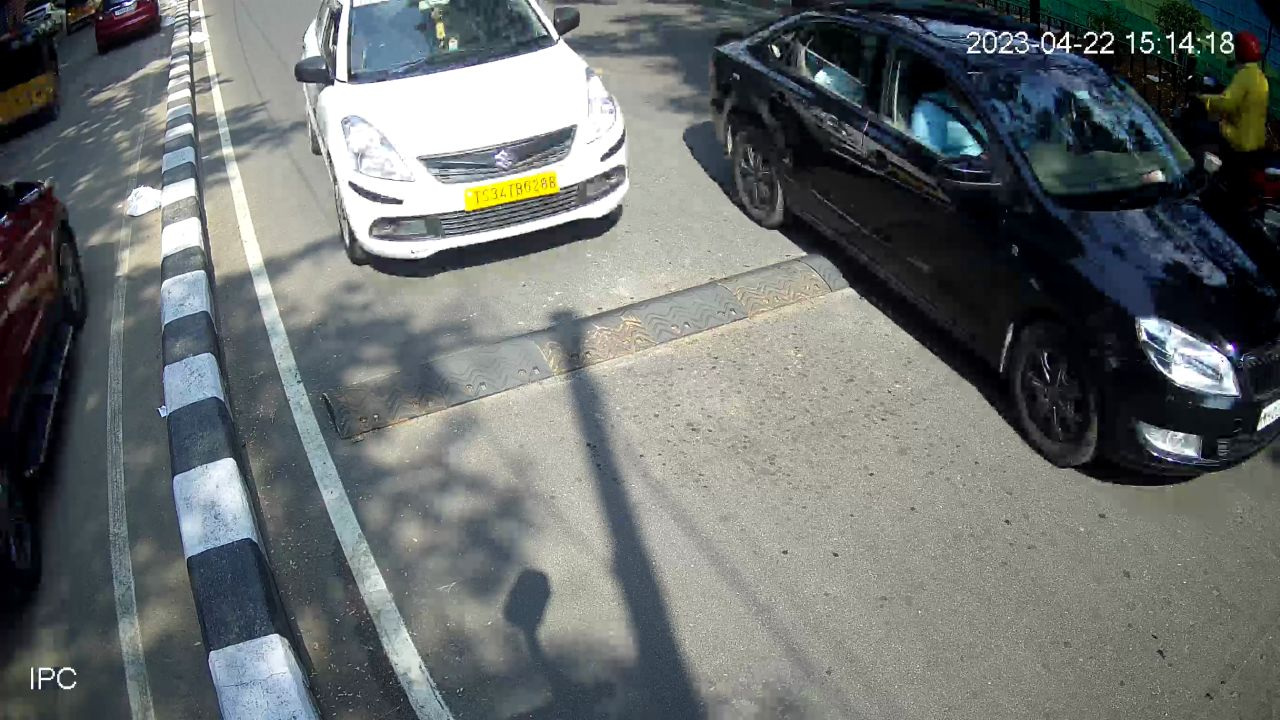license_plate: (457, 166, 564, 217)
